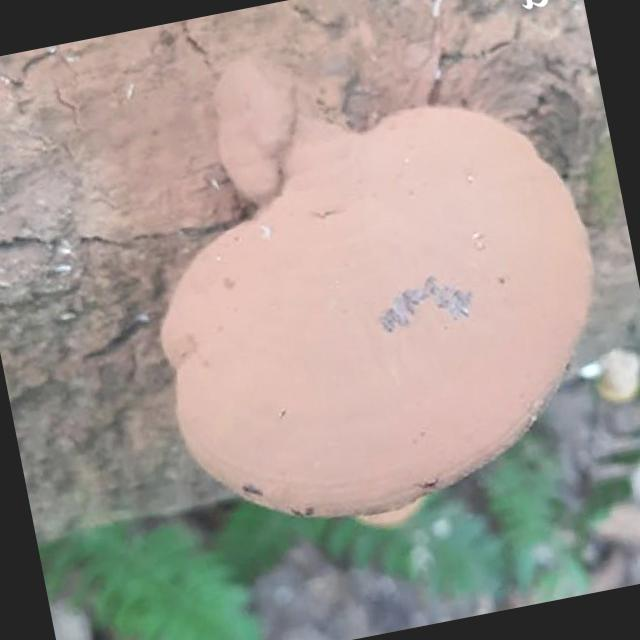ganoderma: (120, 75, 638, 555)
